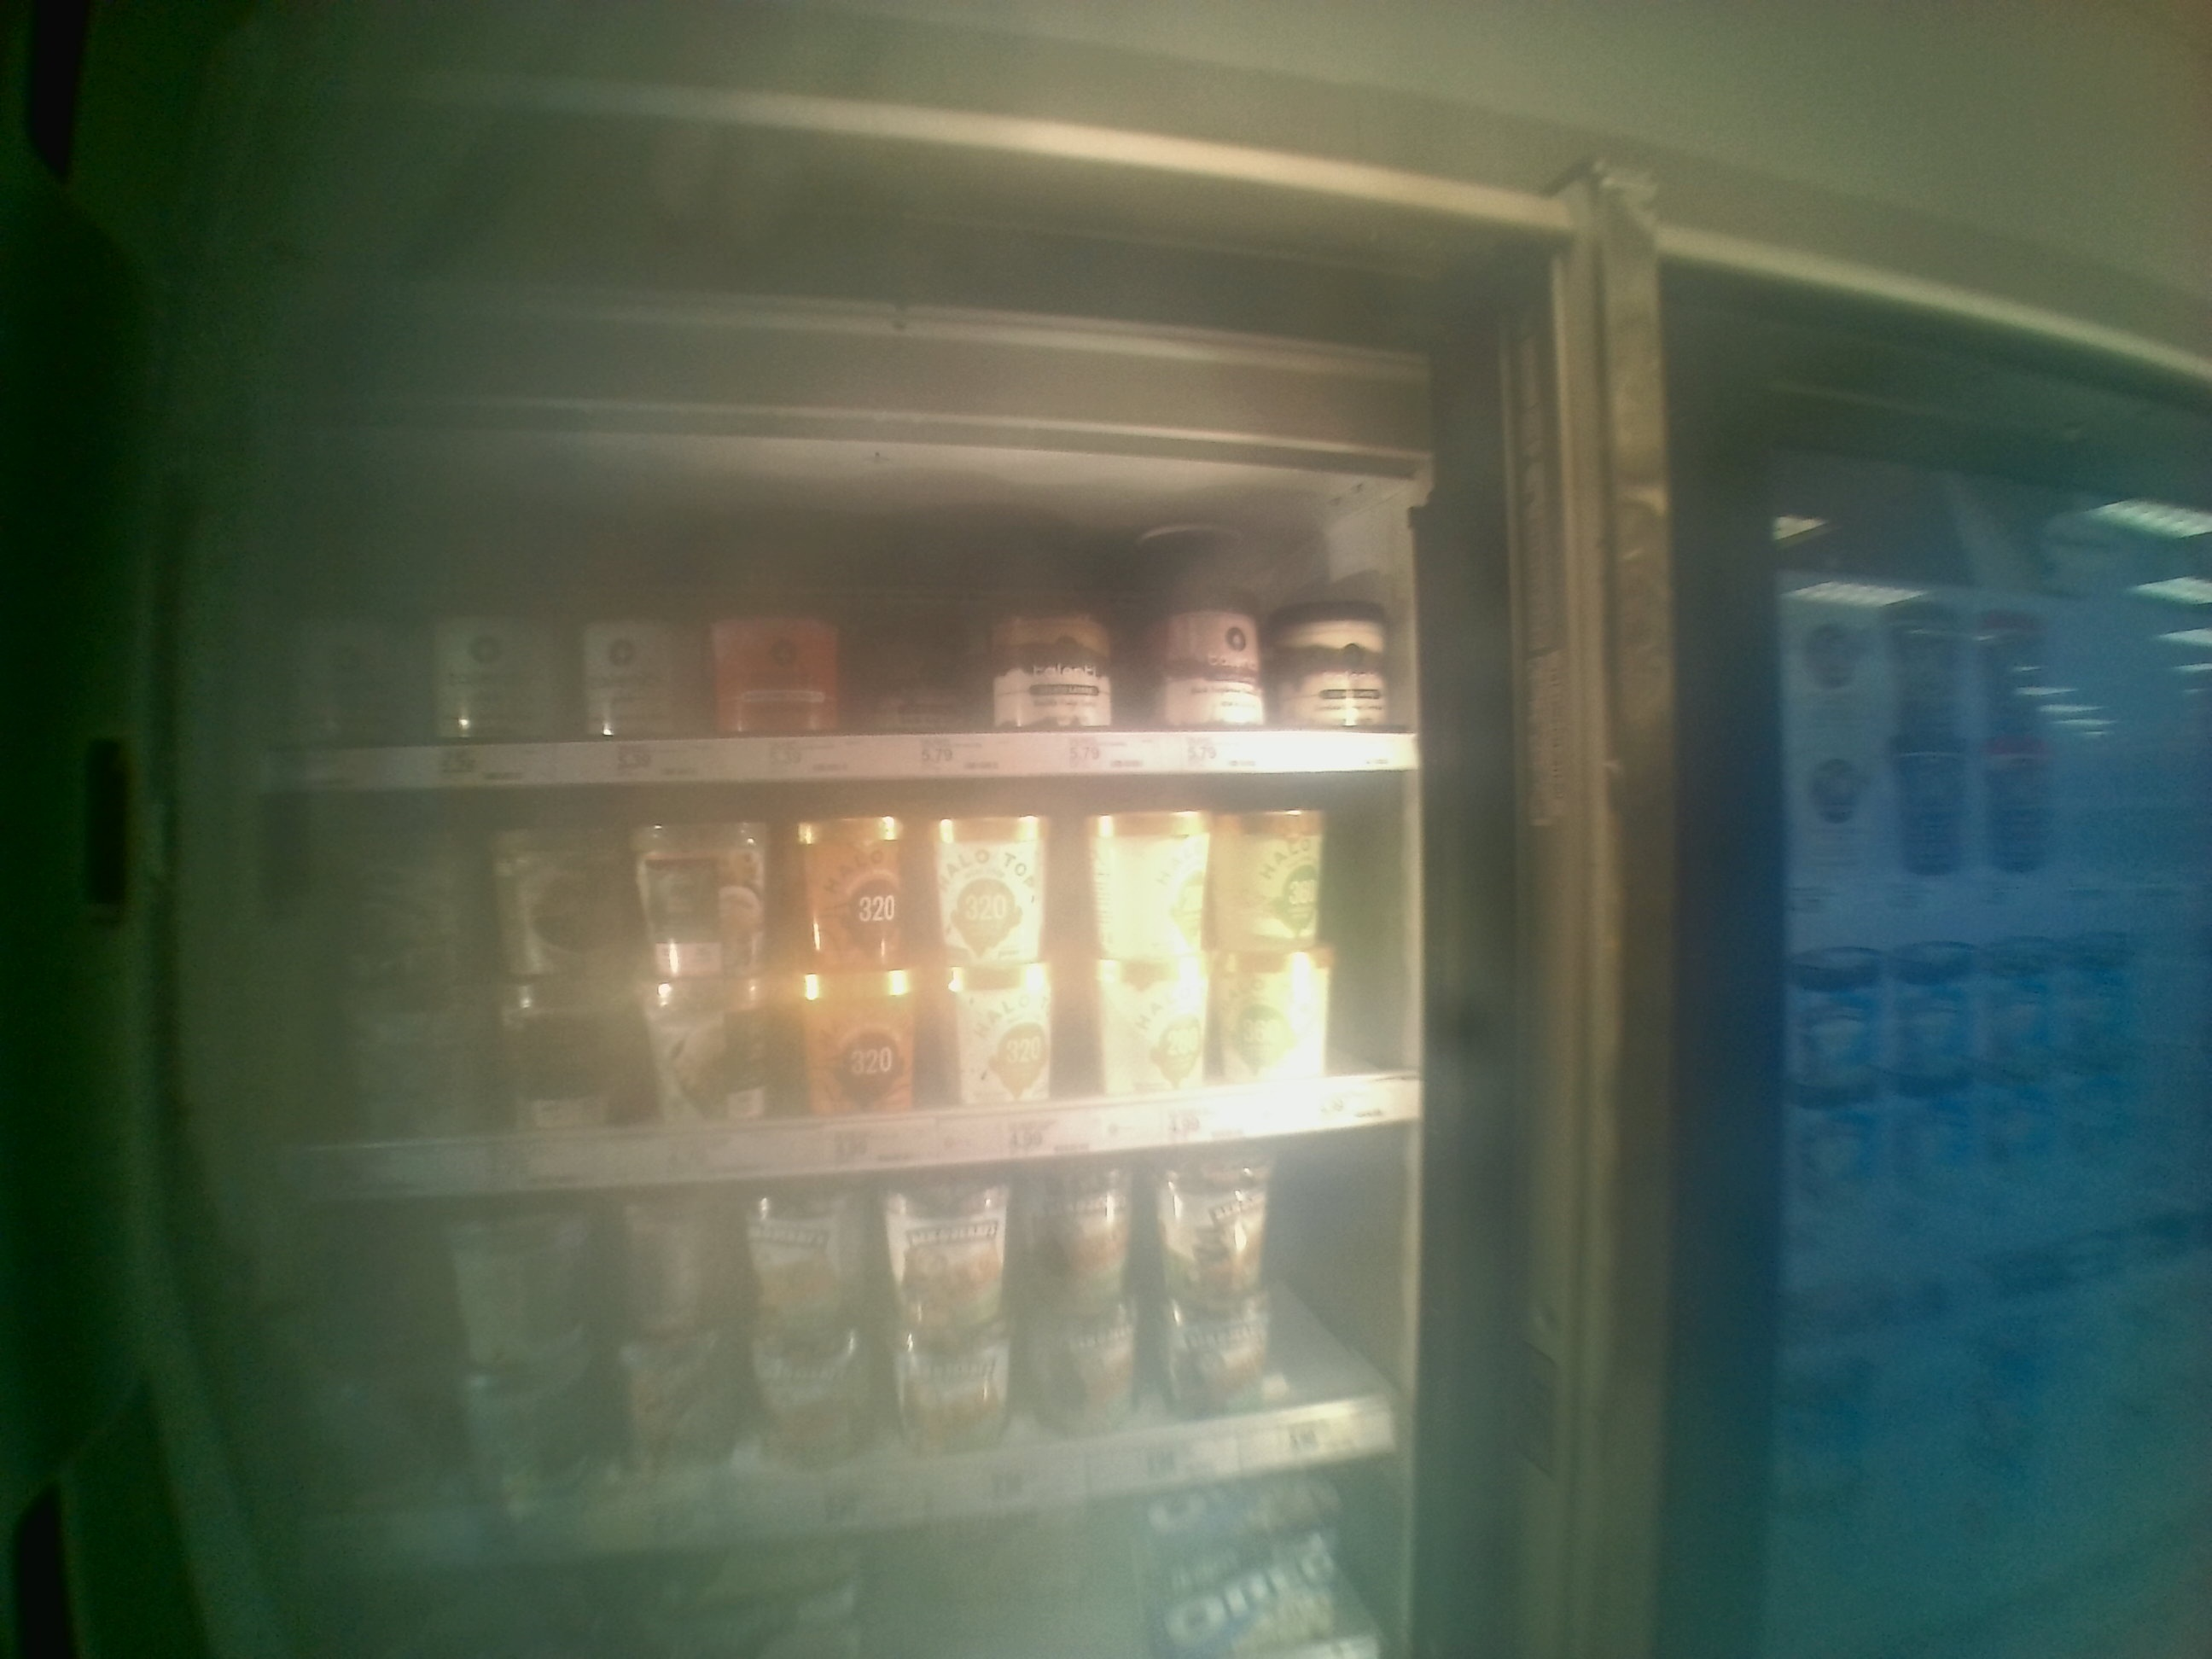shelf: (242, 809, 1404, 1180), (258, 512, 1421, 789)
